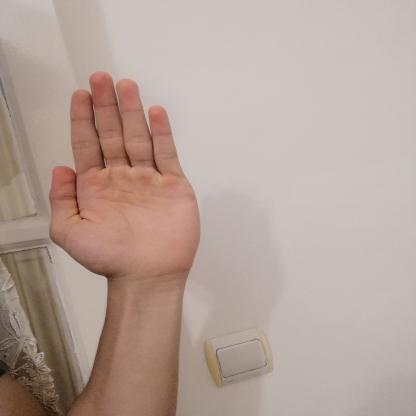SEEN: (31, 64, 212, 289)
